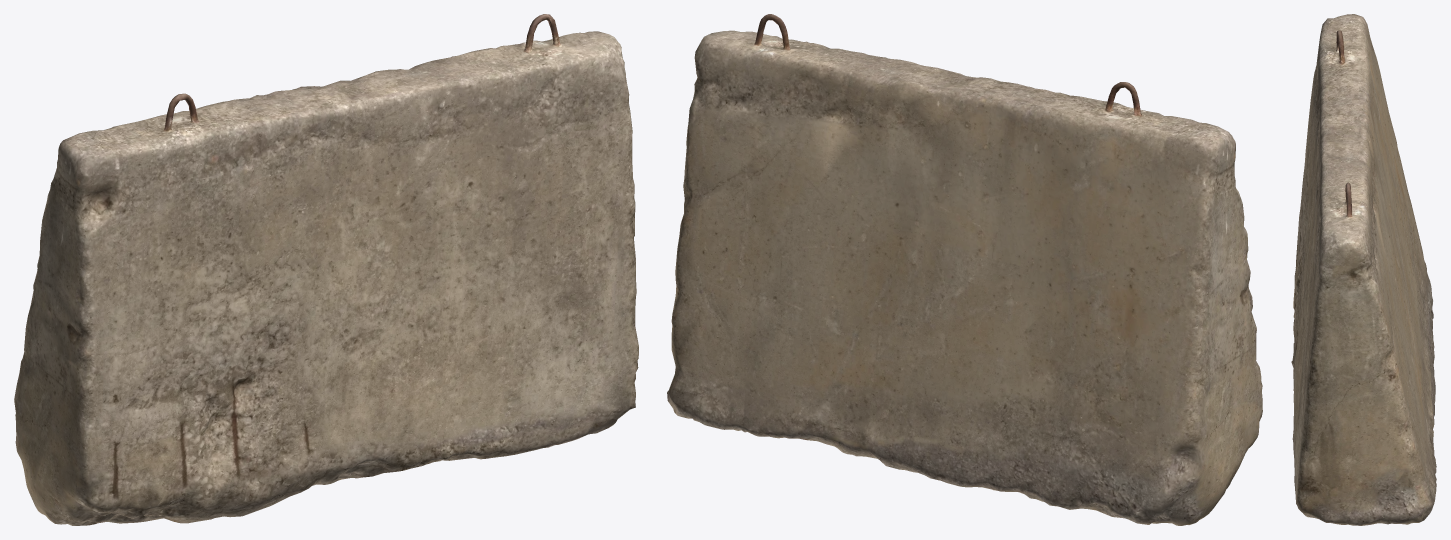
The model's file is concrete_road_barrier_02.glb.
3 views of the same model, side by side, from view 1: azimuth 30°, elevation 25°; view 2: azimuth 150°, elevation 25°; view 3: azimuth 270°, elevation 25° (orthographic). The views are drawn at different scales.
Visible parts, largest first — view 1: concrete_road_barrier_02; view 2: concrete_road_barrier_02; view 3: concrete_road_barrier_02.
Part boxes in pixels (x1,y1,x2,y2): concrete_road_barrier_02: (14,14,638,525); concrete_road_barrier_02: (667,14,1262,525); concrete_road_barrier_02: (1291,14,1436,525).
Size of the model in its own units: 1.57 by 1.11 by 0.4422.
Materials: 1 (1 with a texture image).
